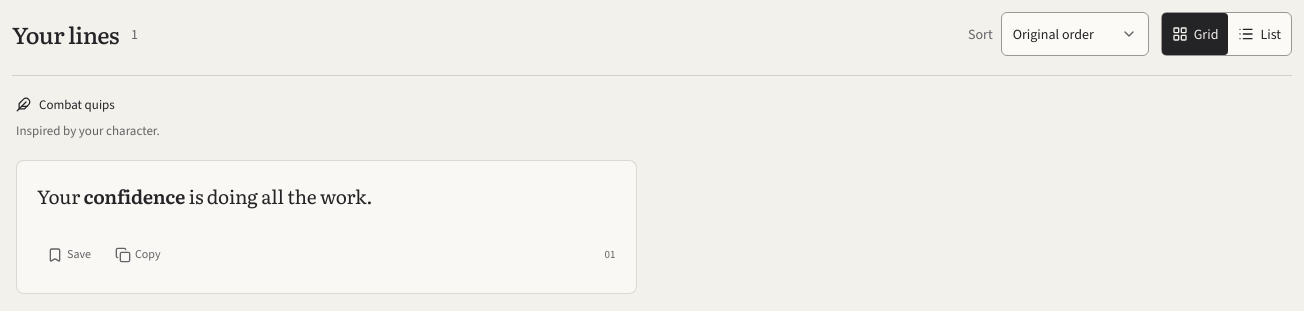
Test case: renders formatted dialogue and only confirms successful copies
Expected: the text "confidence" is shown, [84,182,185,210]
Expected: the element showing "Your confidence is doing all the work. Save Copy 01" does not show "**", [16,160,636,294]
Click the button "Copy": (138, 255) [105,236,171,273]
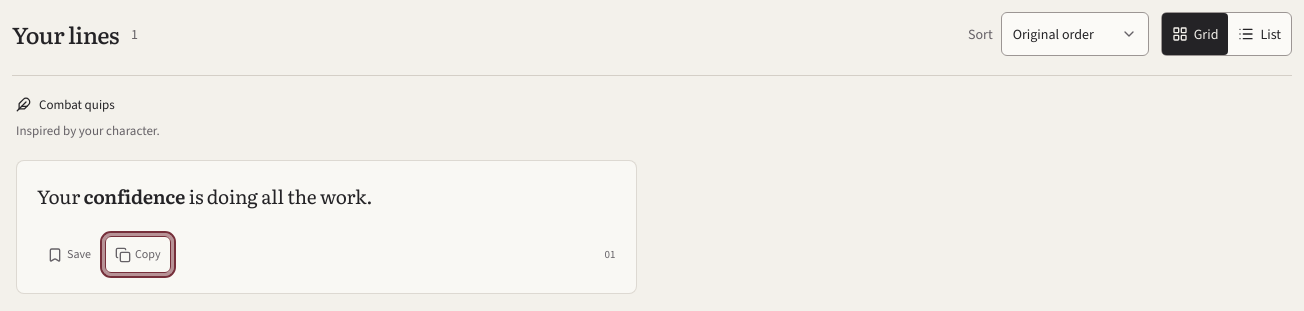
Expected: the button "Copied" is not shown
Click the button "Copy": (138, 255) [105,236,171,273]
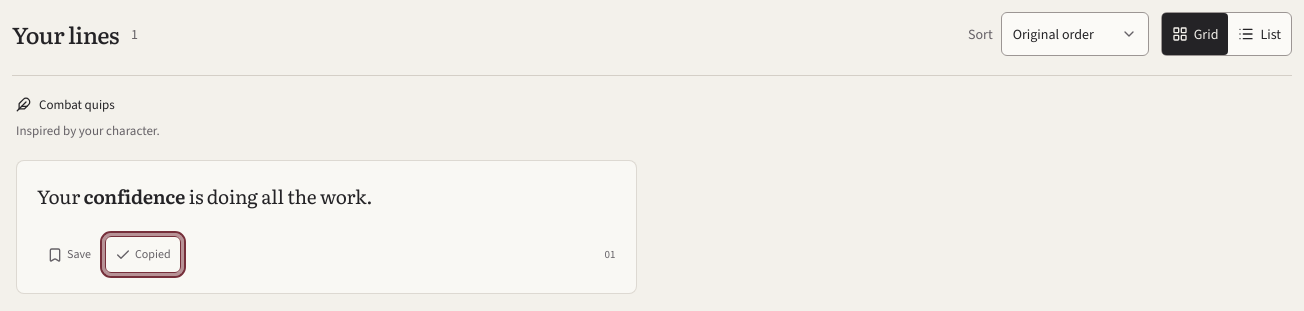
Expected: the button "Copied" is shown, [105,236,181,273]
